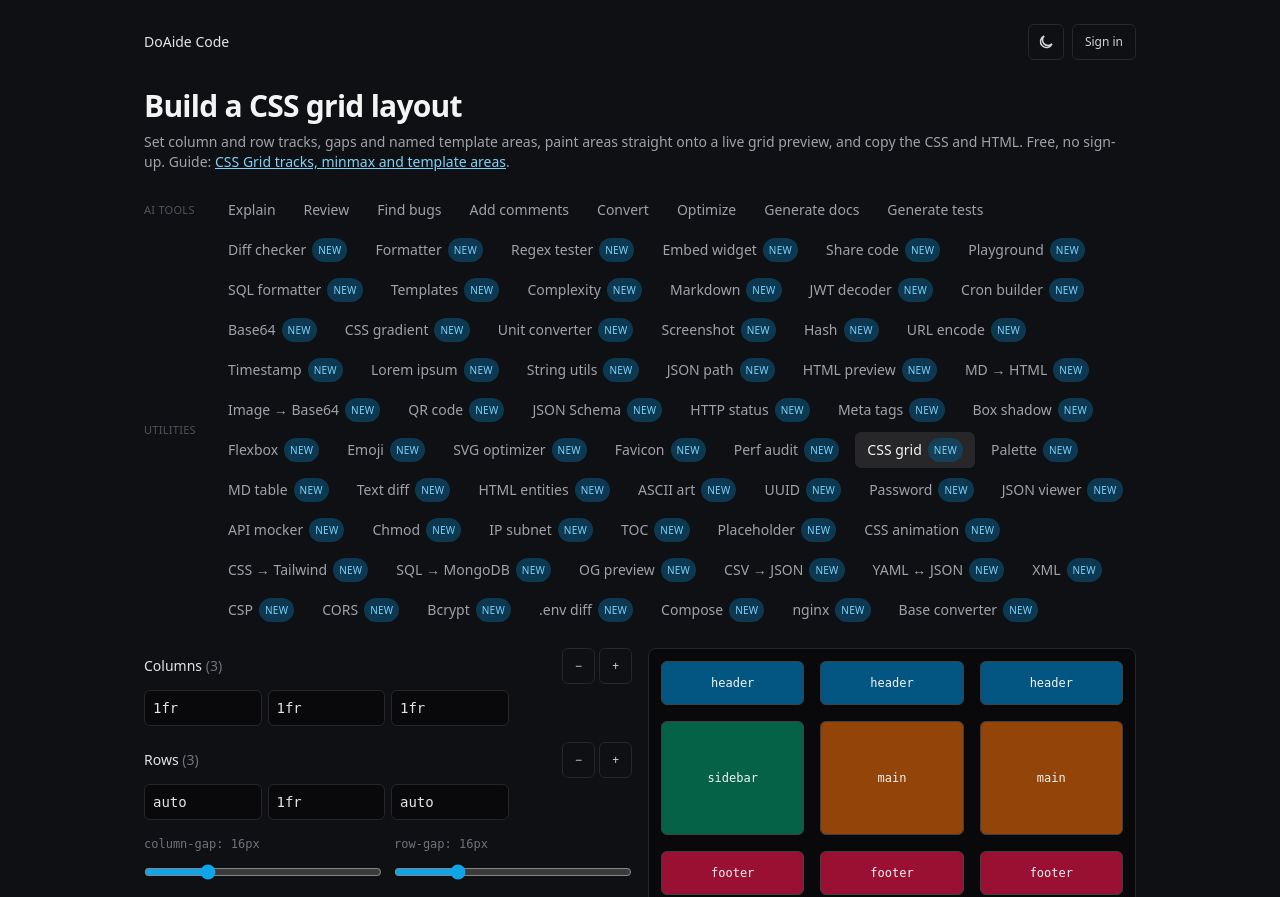
Scenario: GridPage › adds a column and edits a track
Click the button with test id "grid-columns-add": coordinates (616, 666) [599,648,632,684]
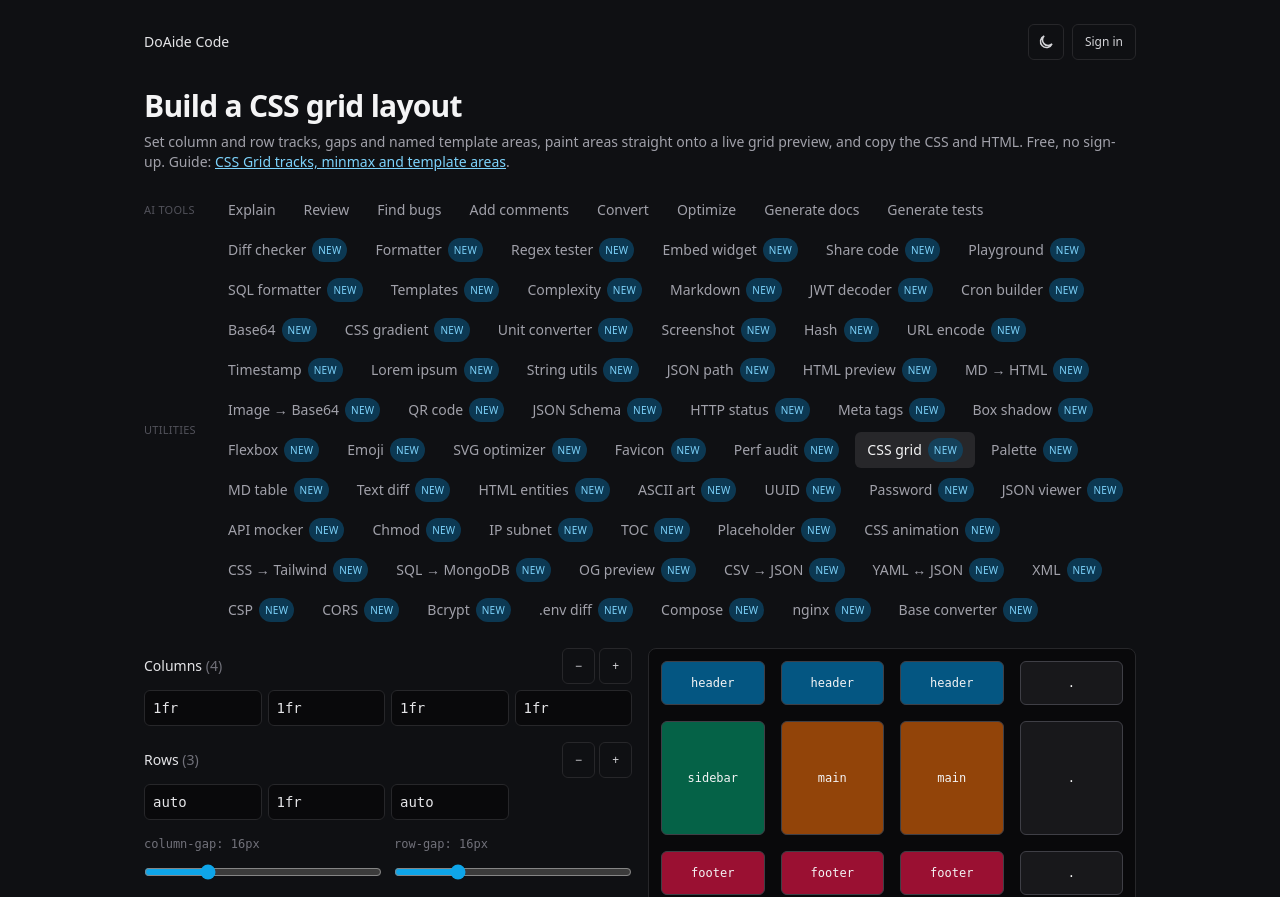
Check: the button with test id "grid-cell-0-3" reads ".", box [1020,661,1123,705]
Replace the text in the field with test id "grid-columns-0" with "250px": coordinates (203, 708) [144,690,262,726]
(page scrolled)
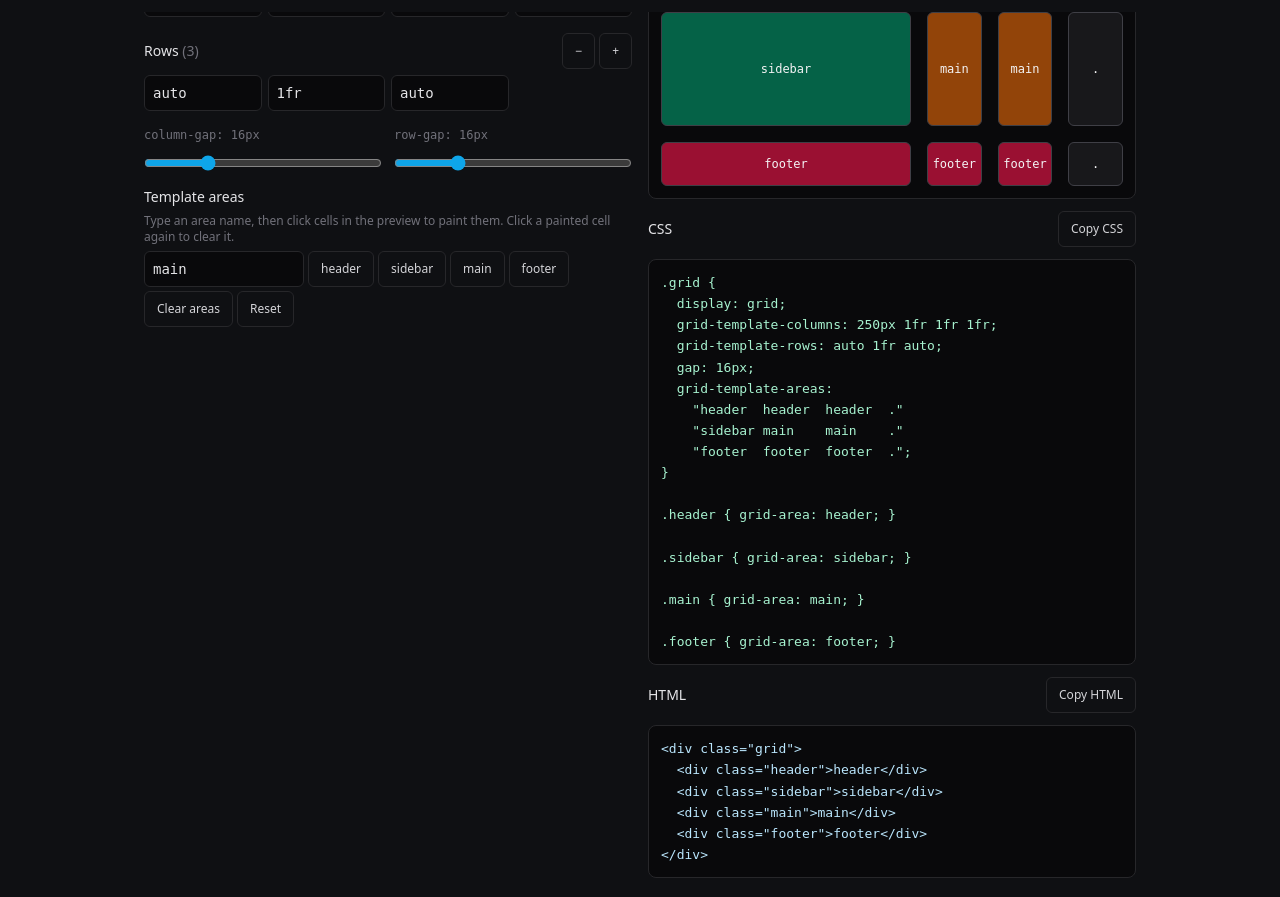
Check: the text with test id "grid-css" shows "grid-template-columns: 250px 1fr 1fr 1fr;", box [661,275,998,649]
